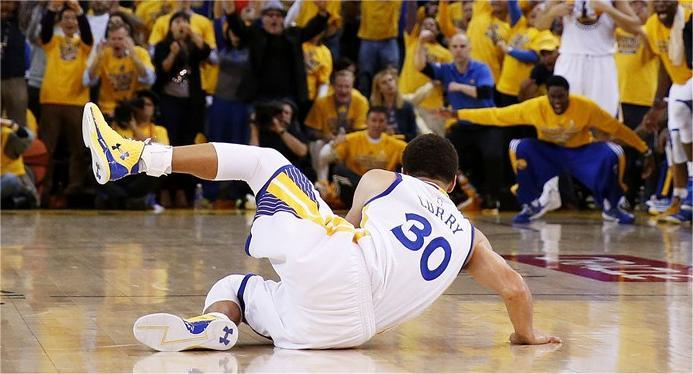bending: (465, 83, 647, 227)
down: (81, 95, 561, 362)
